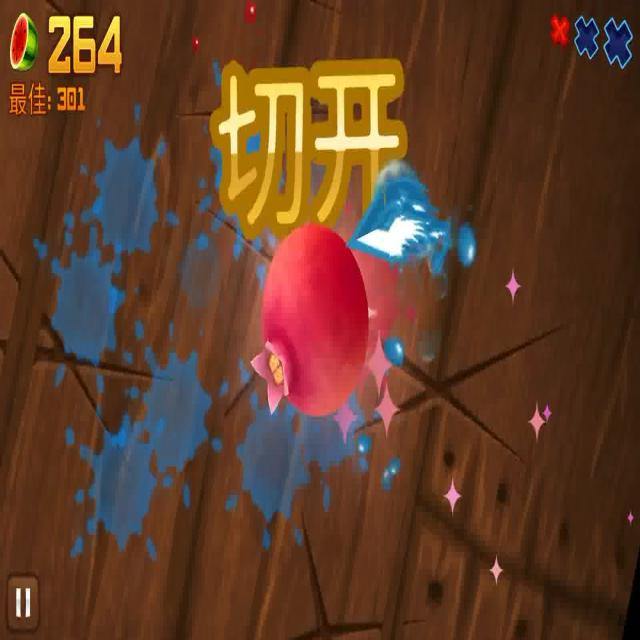fruit: (260, 221, 368, 415)
